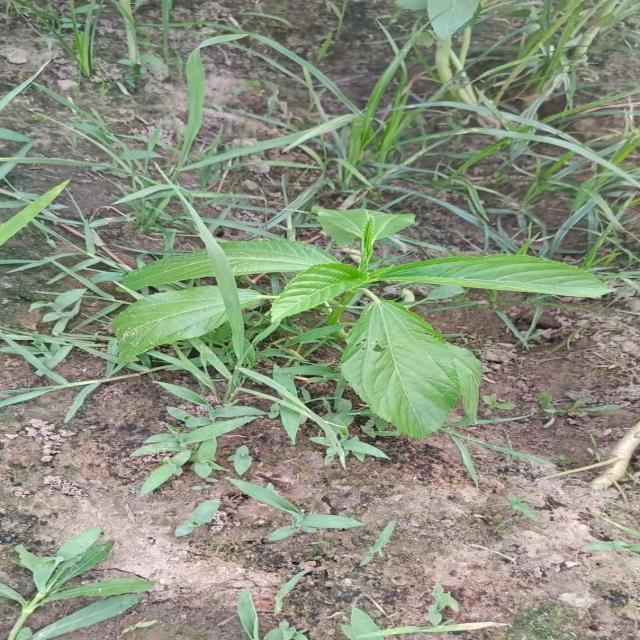plant: (221, 209, 614, 322), (340, 292, 480, 439), (114, 286, 232, 358), (123, 251, 215, 288)
